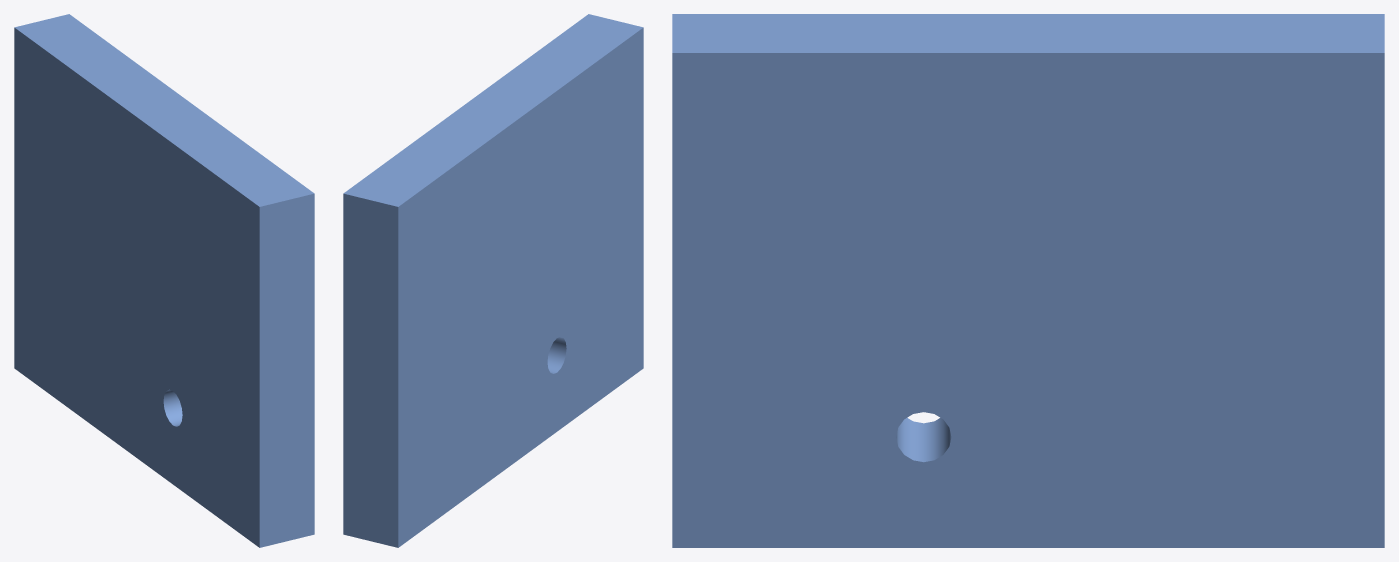
3 renders of one model, left to right at view 1: azimuth 30°, elevation 25°; view 2: azimuth 150°, elevation 25°; view 3: azimuth 270°, elevation 25°, orthographic. The views are drawn at different scales.
Visible parts, largest first — view 1: mesh1, mesh6, mesh3, mesh0; view 2: mesh1, mesh4, mesh3, mesh0; view 3: mesh2, mesh3, mesh0.
Part boxes in pixels (bbox=[...]): mesh1: bbox=[14, 27, 259, 547]; mesh6: bbox=[259, 193, 314, 547]; mesh3: bbox=[14, 14, 314, 206]; mesh0: bbox=[163, 389, 182, 426]; mesh1: bbox=[398, 27, 643, 547]; mesh4: bbox=[343, 193, 398, 547]; mesh3: bbox=[343, 14, 643, 206]; mesh0: bbox=[547, 337, 566, 373]; mesh2: bbox=[672, 53, 1384, 547]; mesh3: bbox=[672, 14, 1384, 52]; mesh0: bbox=[896, 418, 951, 462].
Bounding box in the file's own units: 0.015 × 0.0889 × 0.1159.
